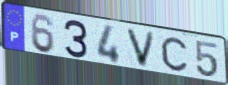3: (62, 18, 90, 60)
4: (96, 23, 122, 65)
5: (193, 39, 219, 79)
6: (29, 12, 56, 55)
C: (160, 35, 189, 73)
V: (124, 26, 158, 70)
